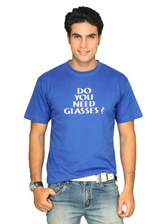clothoes: (24, 62, 143, 184)
watch: (23, 179, 46, 192)
